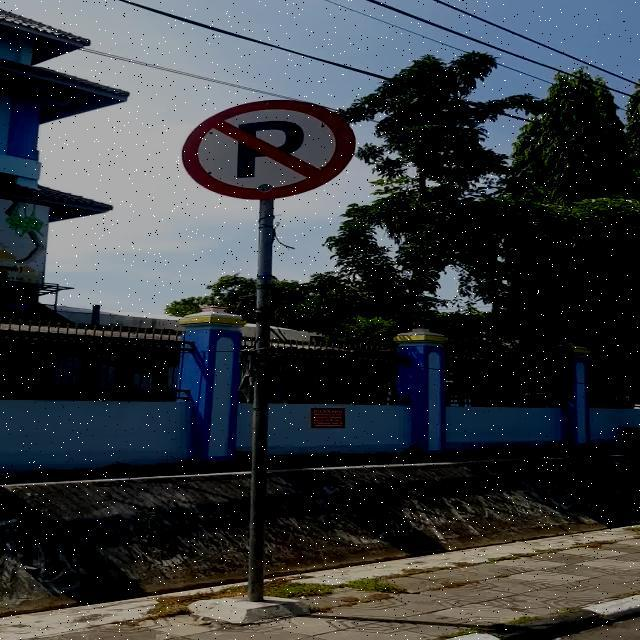Dilarang Parkir: (180, 100, 357, 199)
